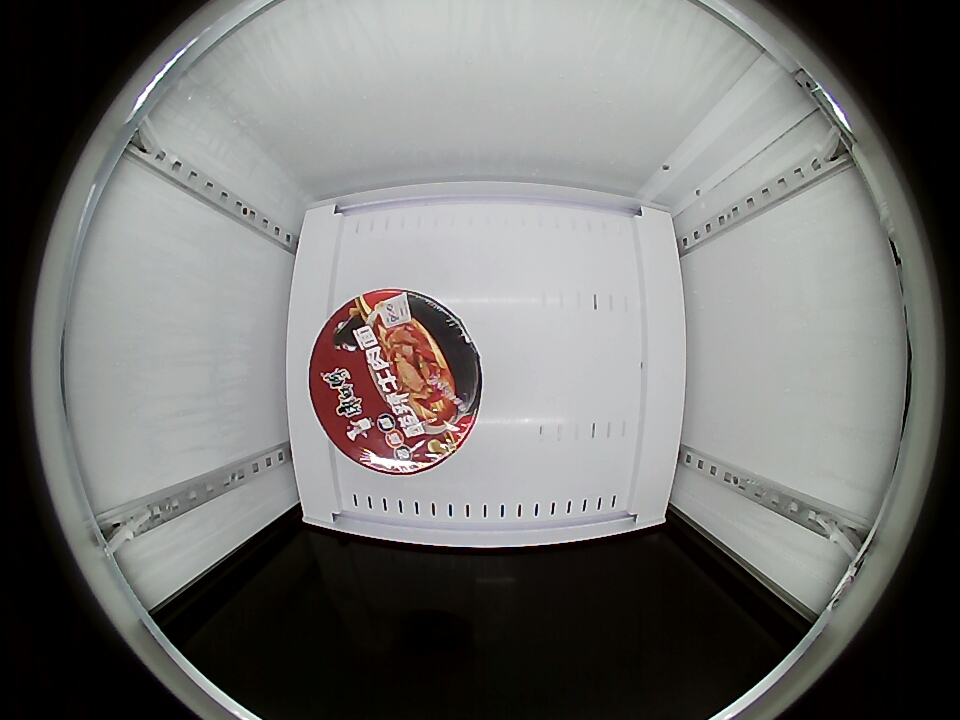suanlaniurou: (309, 290, 483, 475)
